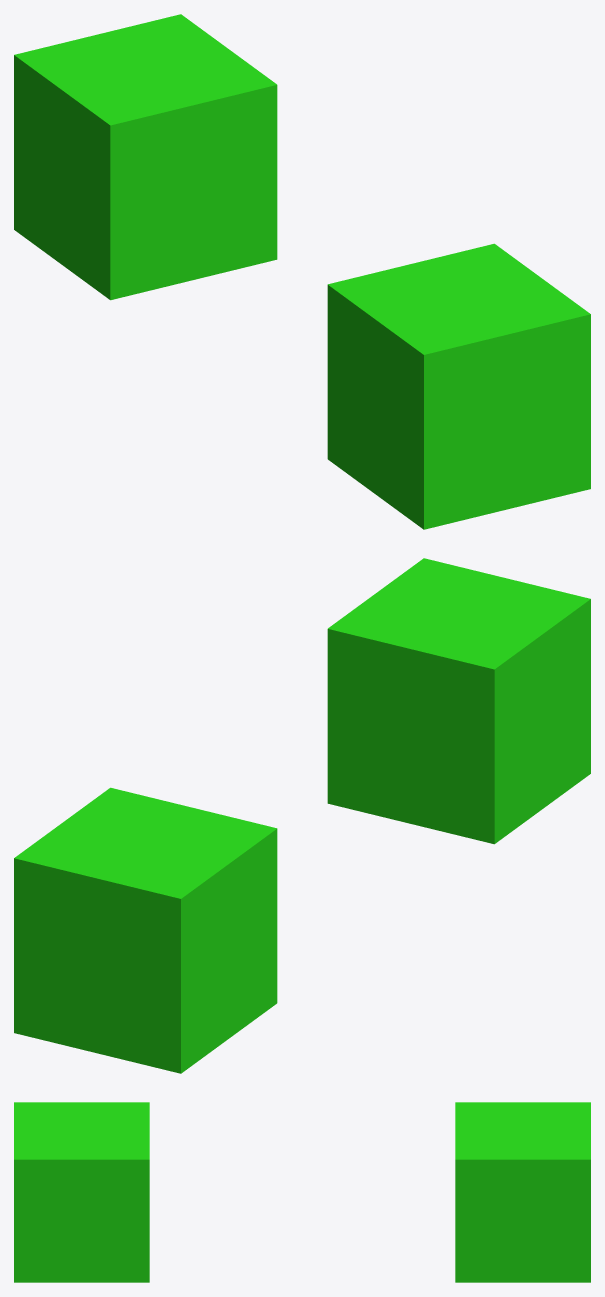
File: PernaDeElSapon.fbx
3 renders of one model, top to bottom at view 1: azimuth 30°, elevation 25°; view 2: azimuth 150°, elevation 25°; view 3: azimuth 270°, elevation 25°, orthographic. The views are drawn at different scales.
Visible parts, largest first — view 1: Olhos; view 2: Olhos; view 3: Olhos.
Part boxes in pixels (x1,y1,x2,y2): Olhos: [14, 14, 590, 529]; Olhos: [14, 558, 590, 1073]; Olhos: [14, 1102, 590, 1282].
Bounding box in the file's own units: 89 × 89 × 378.
